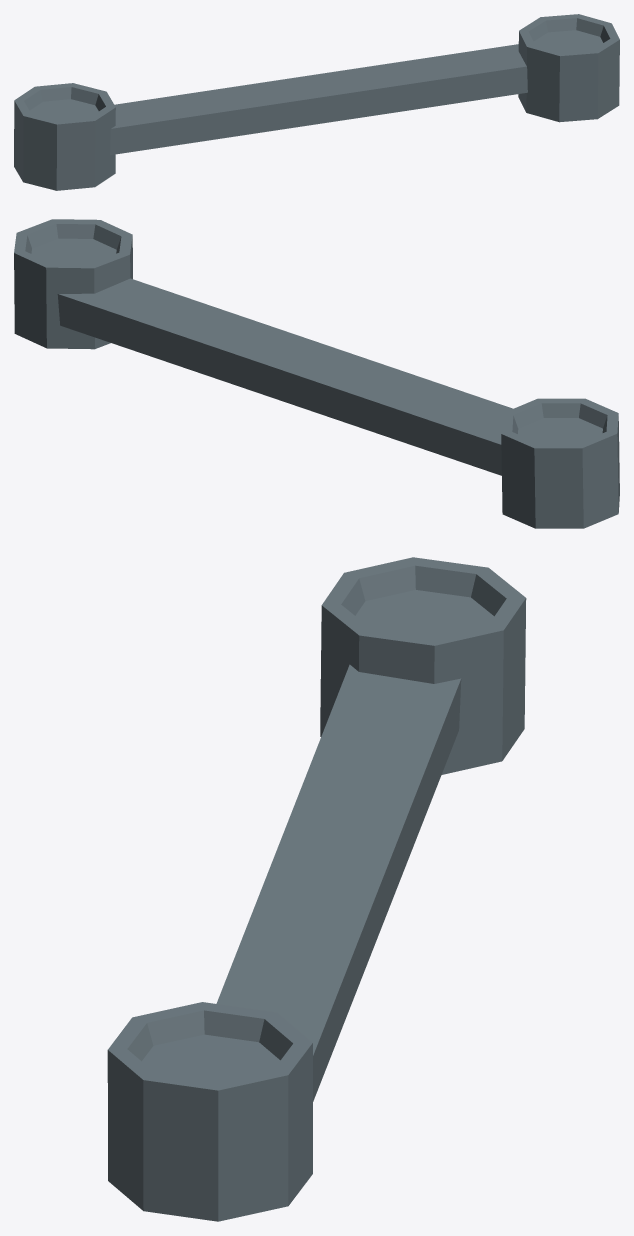
The model's file is titener.glb.
3 views of the same model, one above another, from view 1: azimuth 30°, elevation 25°; view 2: azimuth 150°, elevation 25°; view 3: azimuth 270°, elevation 25° (orthographic). The views are drawn at different scales.
Parts seen in each view (by area): view 1: titener; view 2: titener; view 3: titener.
Boxes of the visible parts, x1,y1,x2,y2 form: titener: (14, 14, 619, 190); titener: (14, 219, 619, 528); titener: (107, 557, 526, 1221).
Size of the model in its own units: 0.4267 by 0.0523 by 0.1431.
